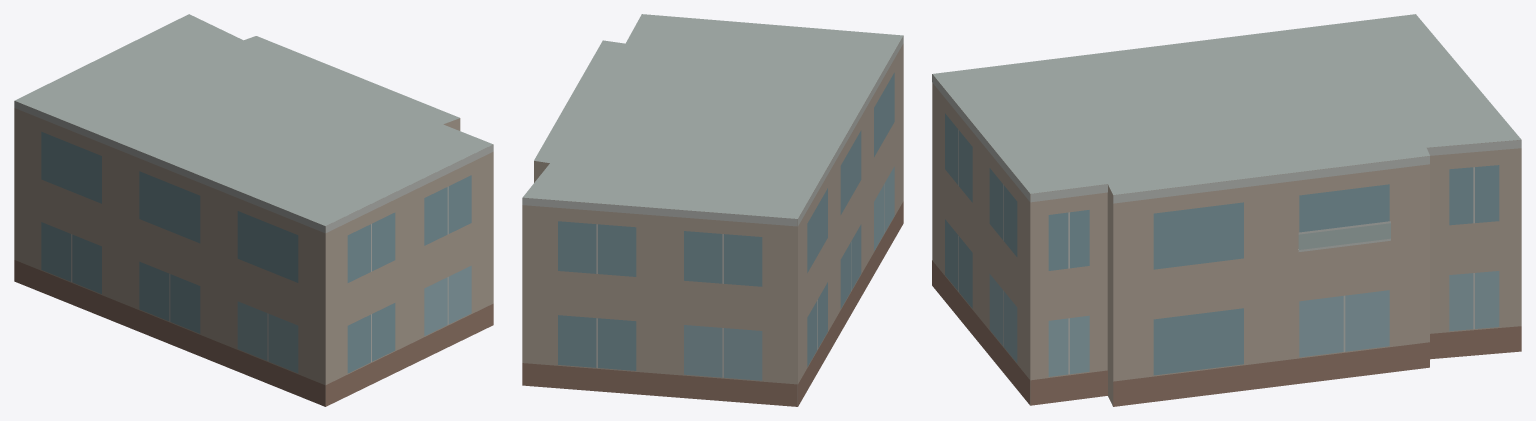
Rendered from survey-upis-32990744.glb.
The picture shows the model from 3 angles, left to right: view 1: azimuth 30°, elevation 25°; view 2: azimuth 150°, elevation 25°; view 3: azimuth 270°, elevation 25°; orthographic projection. The views are drawn at different scales.
Parts seen in each view (by area): view 1: survey-upis-32990744.tmp; view 2: survey-upis-32990744.tmp; view 3: survey-upis-32990744.tmp.
Part boxes in pixels (box(x1,y1,x2,y2)): survey-upis-32990744.tmp: box(14, 14, 493, 406); survey-upis-32990744.tmp: box(522, 14, 903, 406); survey-upis-32990744.tmp: box(932, 14, 1521, 406).
Bounding box in the file's own units: 11.2 × 6.1 × 15.4.
